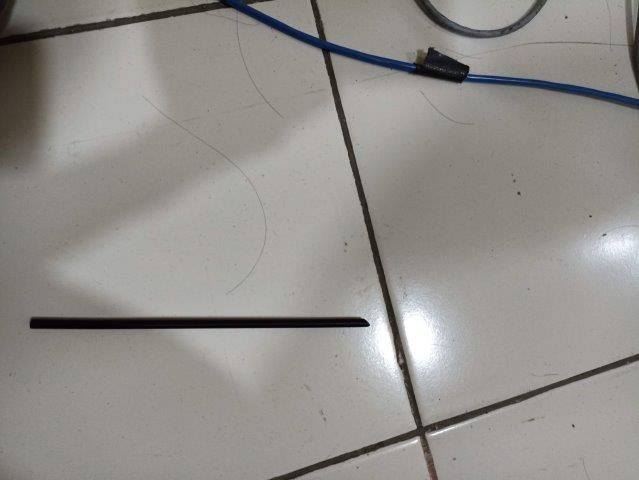sedotan: (29, 317, 370, 329)
